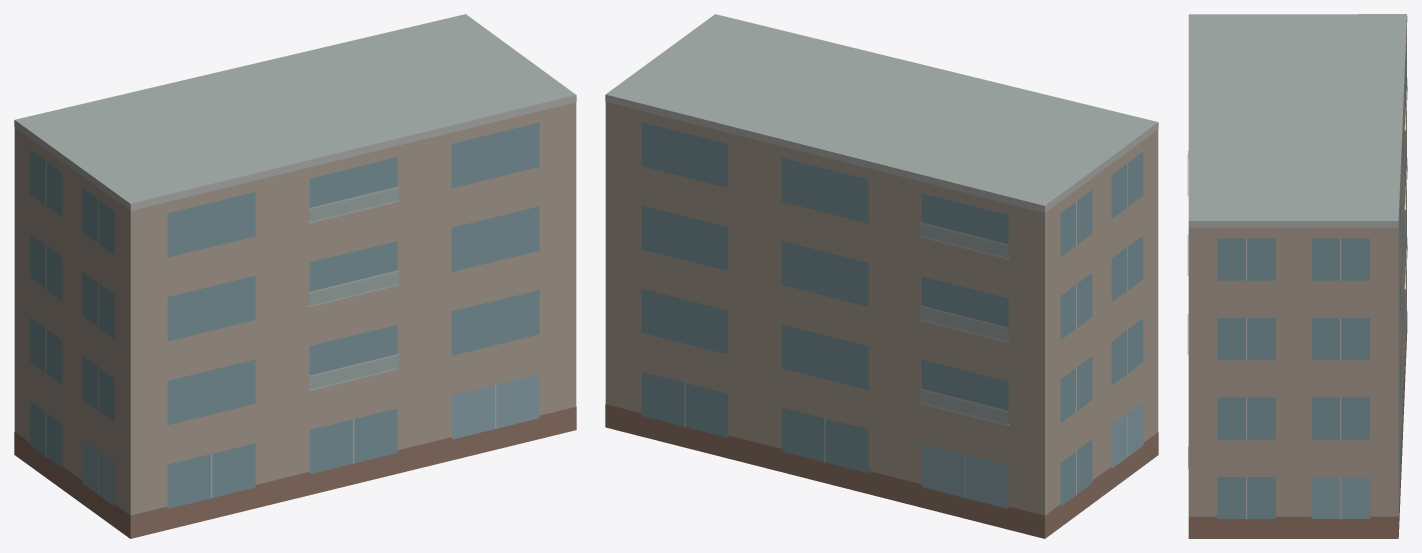
File: survey-upis-32494959.glb
3 views of the same model, side by side, from view 1: azimuth 30°, elevation 25°; view 2: azimuth 150°, elevation 25°; view 3: azimuth 270°, elevation 25° (orthographic). The views are drawn at different scales.
Visible parts, largest first — view 1: survey-upis-32494959.tmp; view 2: survey-upis-32494959.tmp; view 3: survey-upis-32494959.tmp.
Boxes of the visible parts, x1,y1,x2,y2 form: survey-upis-32494959.tmp: [14, 14, 576, 538]; survey-upis-32494959.tmp: [605, 14, 1158, 538]; survey-upis-32494959.tmp: [1187, 14, 1407, 538].
Size of the model in its own units: 15.86 by 11.35 by 7.12.
